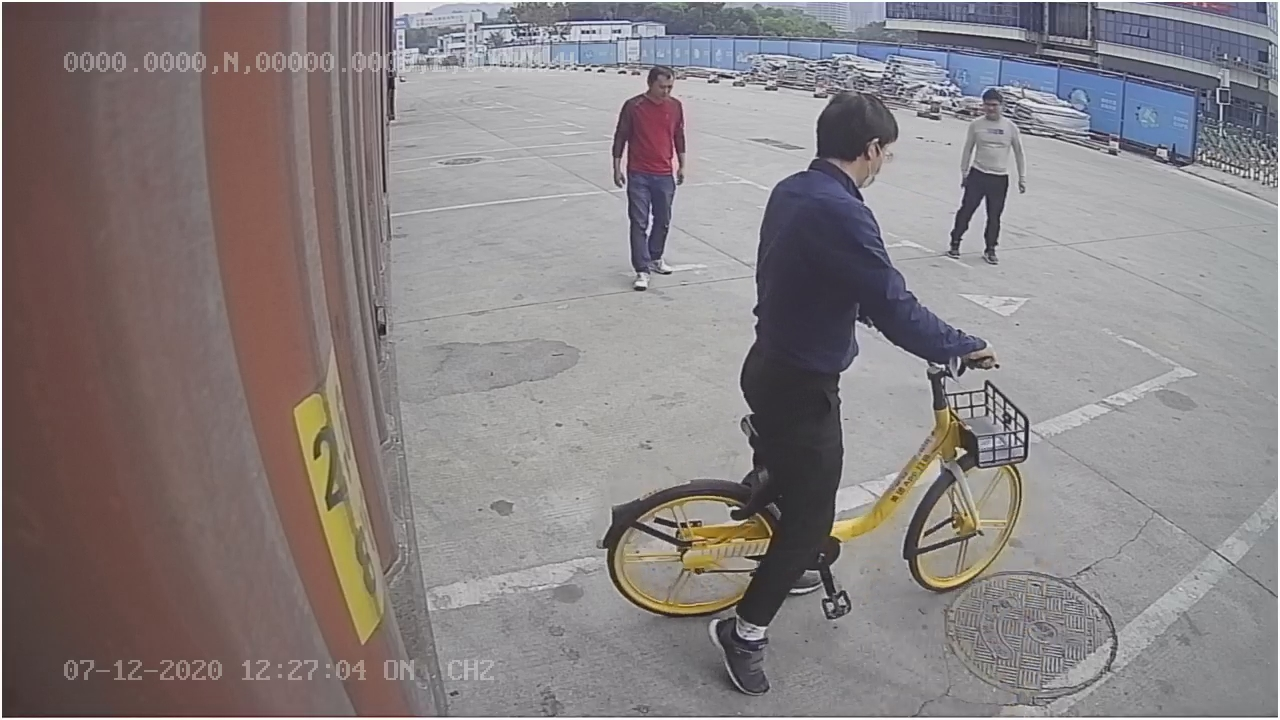person: (605, 58, 694, 295)
